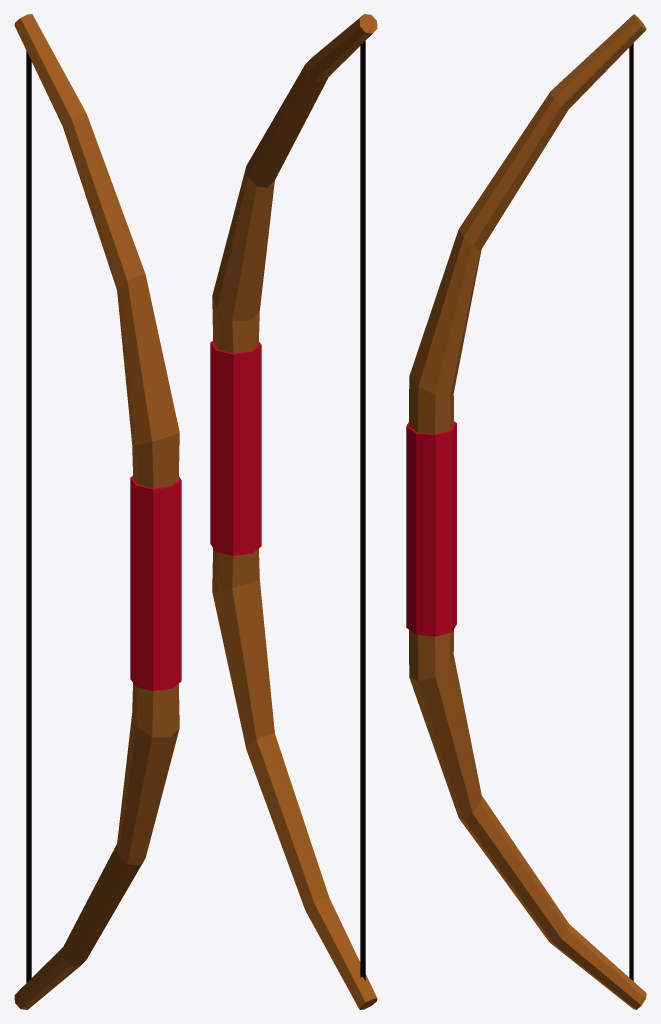
The model's file is Bow.fbx.
The picture shows the model from 3 angles, left to right: view 1: azimuth 30°, elevation 25°; view 2: azimuth 210°, elevation 25°; view 3: azimuth 270°, elevation 25°; orthographic projection.
Parts seen in each view (by area): view 1: Bow; view 2: Bow; view 3: Bow.
Part boxes in pixels (bbox=[...]): Bow: bbox=[14, 14, 181, 1009]; Bow: bbox=[210, 14, 377, 1009]; Bow: bbox=[406, 14, 646, 1009].
Size of the model in its own units: 12.44 by 200 by 43.78.
